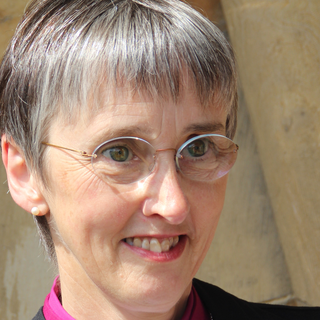eye: (172, 130, 220, 163), (92, 142, 144, 169)
